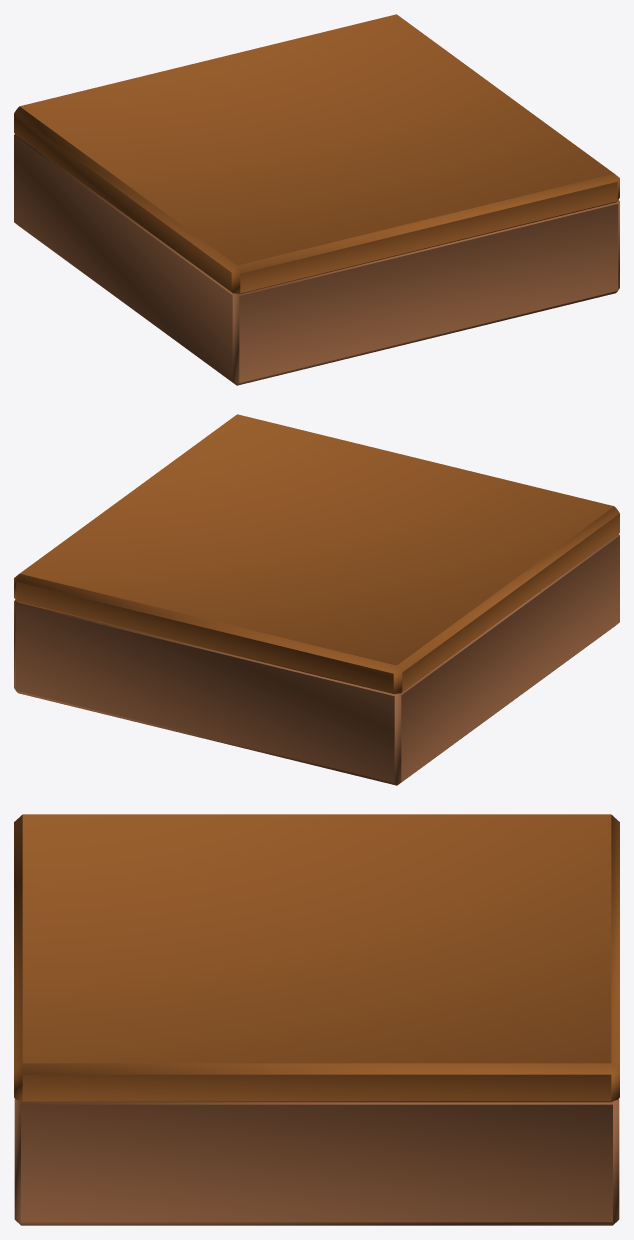
The model's file is tile_garden.glb.
The picture shows the model from 3 angles, top to bottom: view 1: azimuth 30°, elevation 25°; view 2: azimuth 150°, elevation 25°; view 3: azimuth 270°, elevation 25°; orthographic projection. The views are drawn at different scales.
Visible parts, largest first — view 1: gar_cap, gar_body; view 2: gar_cap, gar_body; view 3: gar_cap, gar_body.
Part boxes in pixels (x1=…): gar_cap: x1=14, y1=14, x2=619, y2=294; gar_body: x1=14, y1=134, x2=619, y2=385; gar_cap: x1=14, y1=414, x2=619, y2=694; gar_body: x1=14, y1=534, x2=619, y2=785; gar_cap: x1=14, y1=814, x2=619, y2=1102; gar_body: x1=14, y1=1098, x2=619, y2=1225.
Size of the model in its own units: 1.7 by 0.5 by 1.7.
